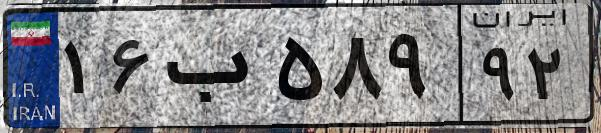1: (57, 26, 110, 100)
2: (525, 38, 570, 115)
5: (270, 28, 330, 110)
6: (110, 28, 158, 98)
8: (330, 28, 385, 110)
9: (385, 28, 445, 110), (475, 38, 525, 113)
ب: (158, 20, 270, 120)
